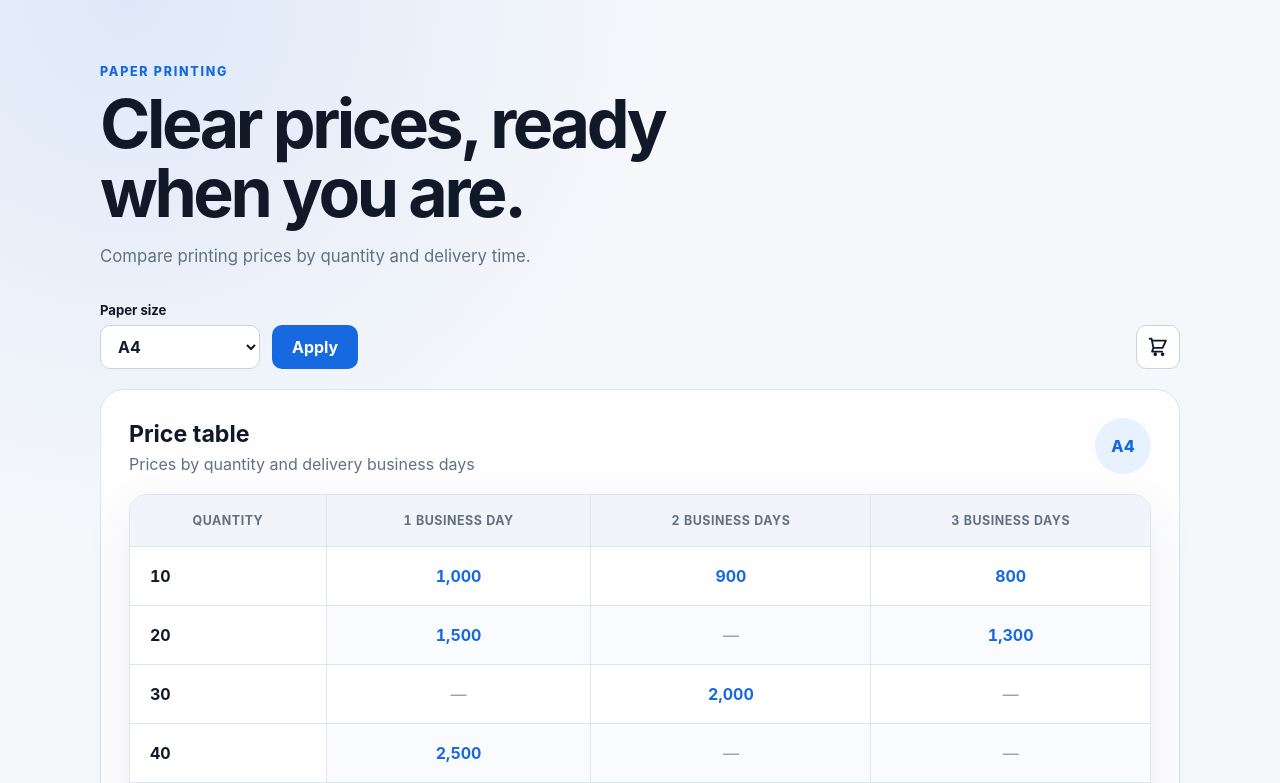
App › supports keyboard activation of Add to Cart
Step 1. Click the button named "Select 1,000, quantity 10, 1 business day" → (459, 576), box x1=327 y1=547 x2=590 y2=605
(page scrolled)
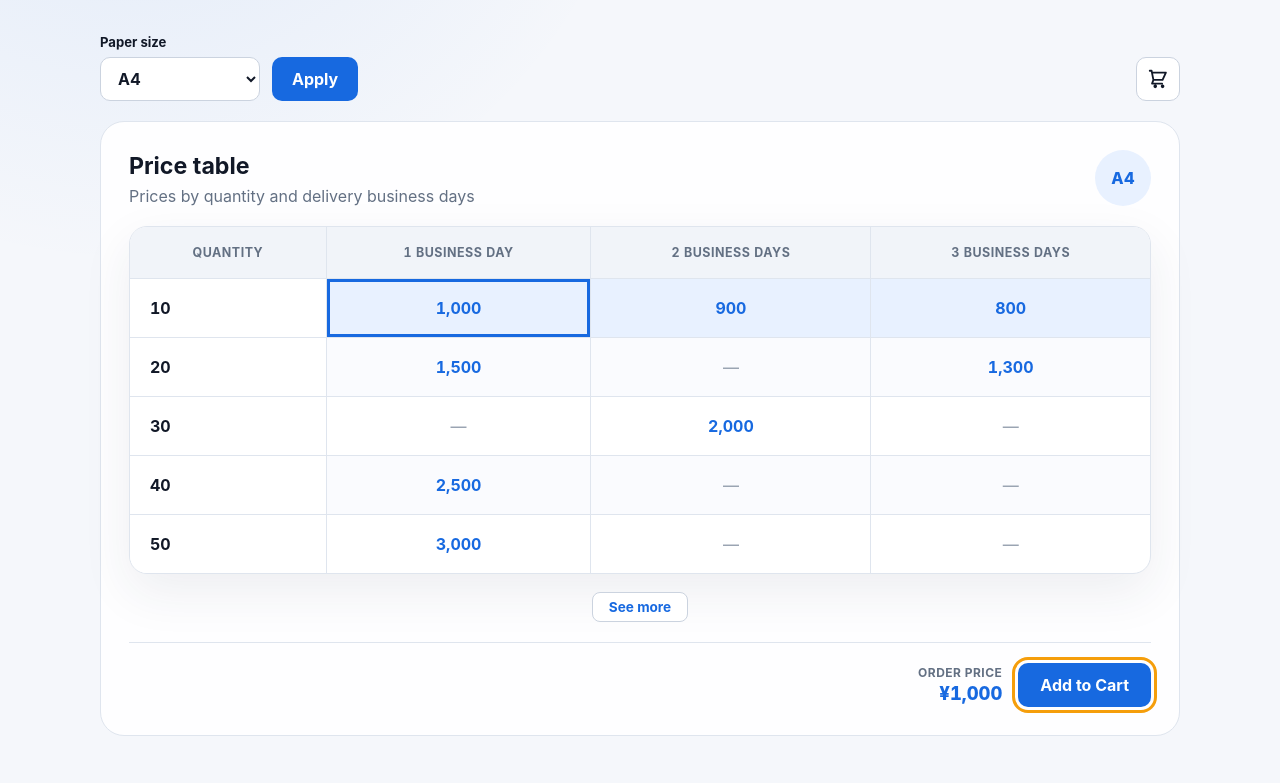
Step 2. Press Enter
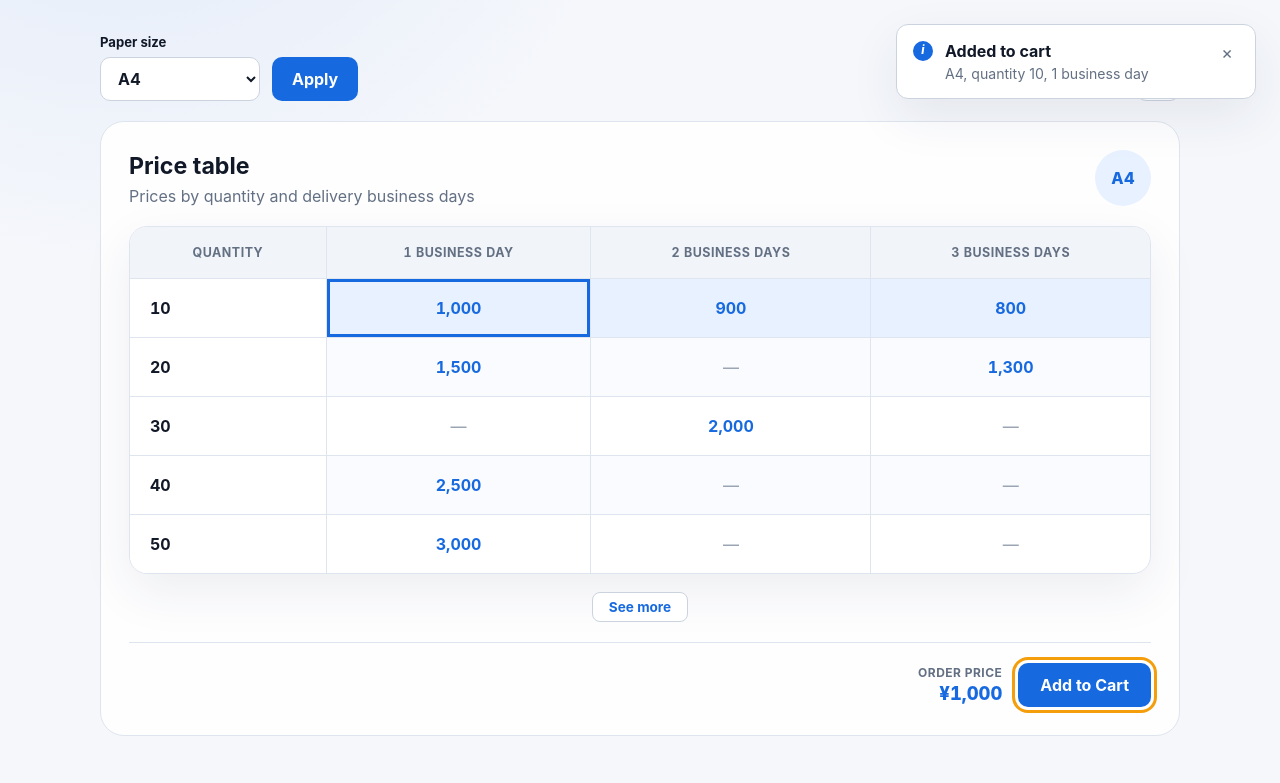
Check: the message shows "Added to cart", box x1=945 y1=41 x2=1051 y2=61
